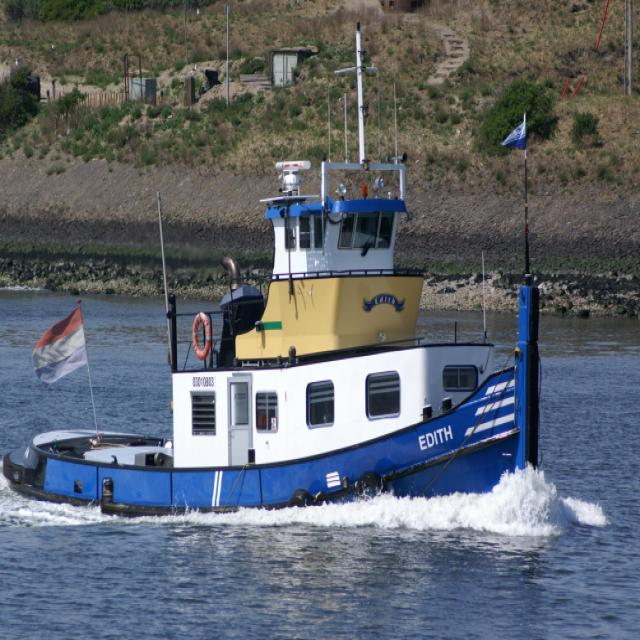tugboat: (5, 154, 547, 536)
